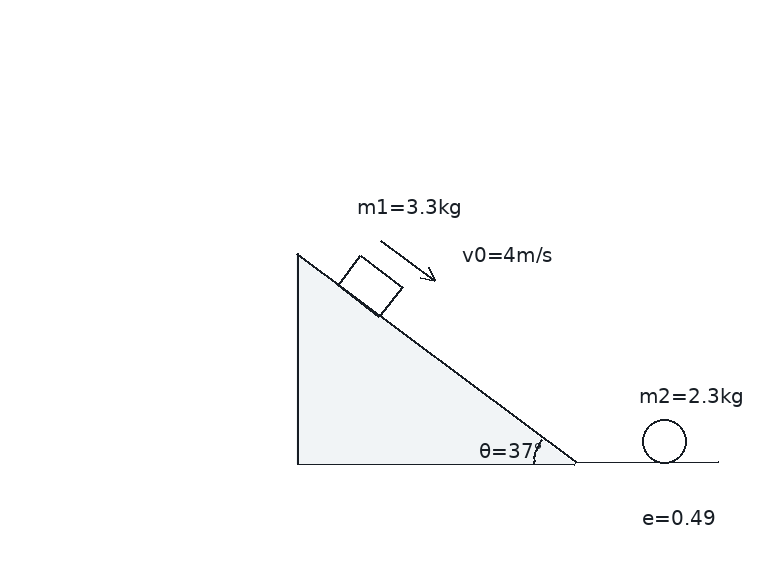ball: (640, 417, 688, 465)
block: (336, 253, 403, 318)
ramp: (295, 252, 576, 465)
